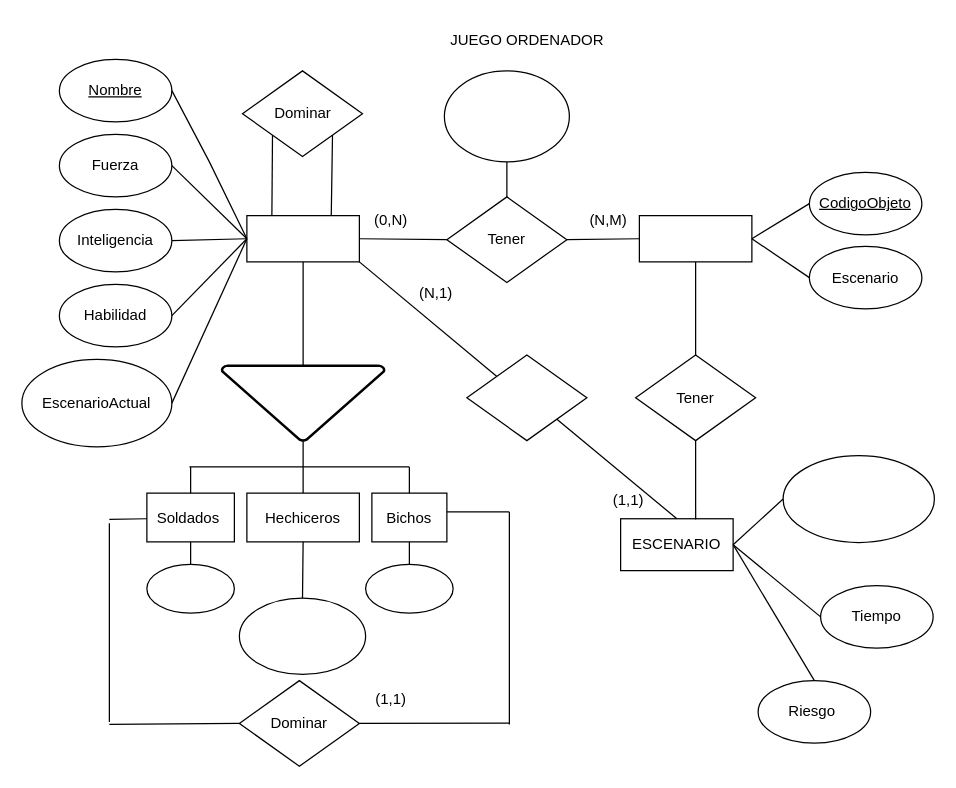
This 956x788 diagram has some shape labels left out. Each missing label, with the centre of its shape:
"Armas" belongs at point (408, 588).
"FechaCaptura" belongs at point (506, 116).
"NumeroEscenario" belongs at point (858, 498).
"OBJETO" belongs at point (695, 238).
"PERSONAJE" belongs at point (302, 238).
"PotenciaMagia" belongs at point (302, 635).
"Pueden ser" belongs at point (302, 402).
"Rango" belongs at point (190, 588).
"Ubicar" belongs at point (526, 397).
